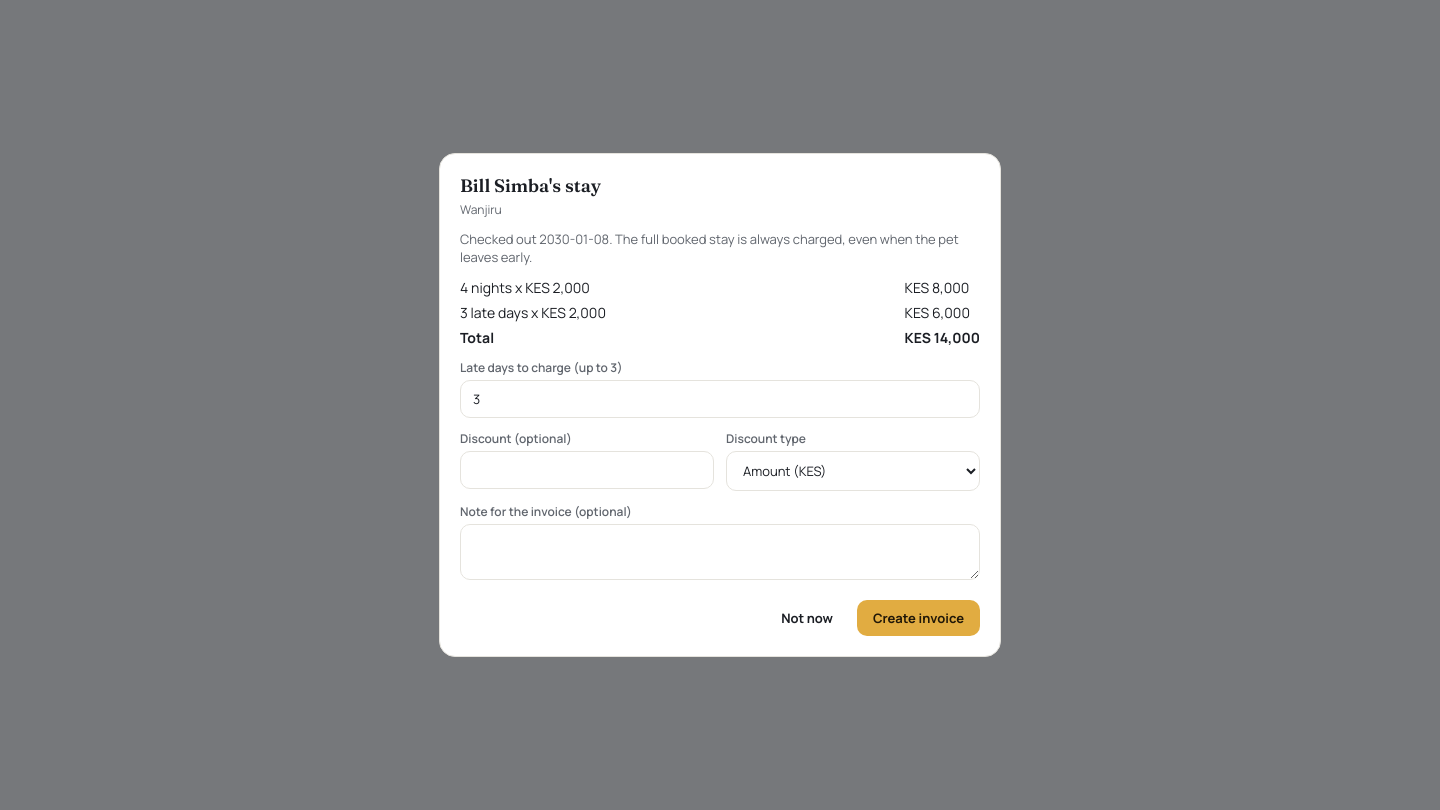
Test: StayInvoiceModal › creates the invoice once and reports success
Click the button "Create invoice".
click(918, 618)  # box [857, 600, 980, 636]
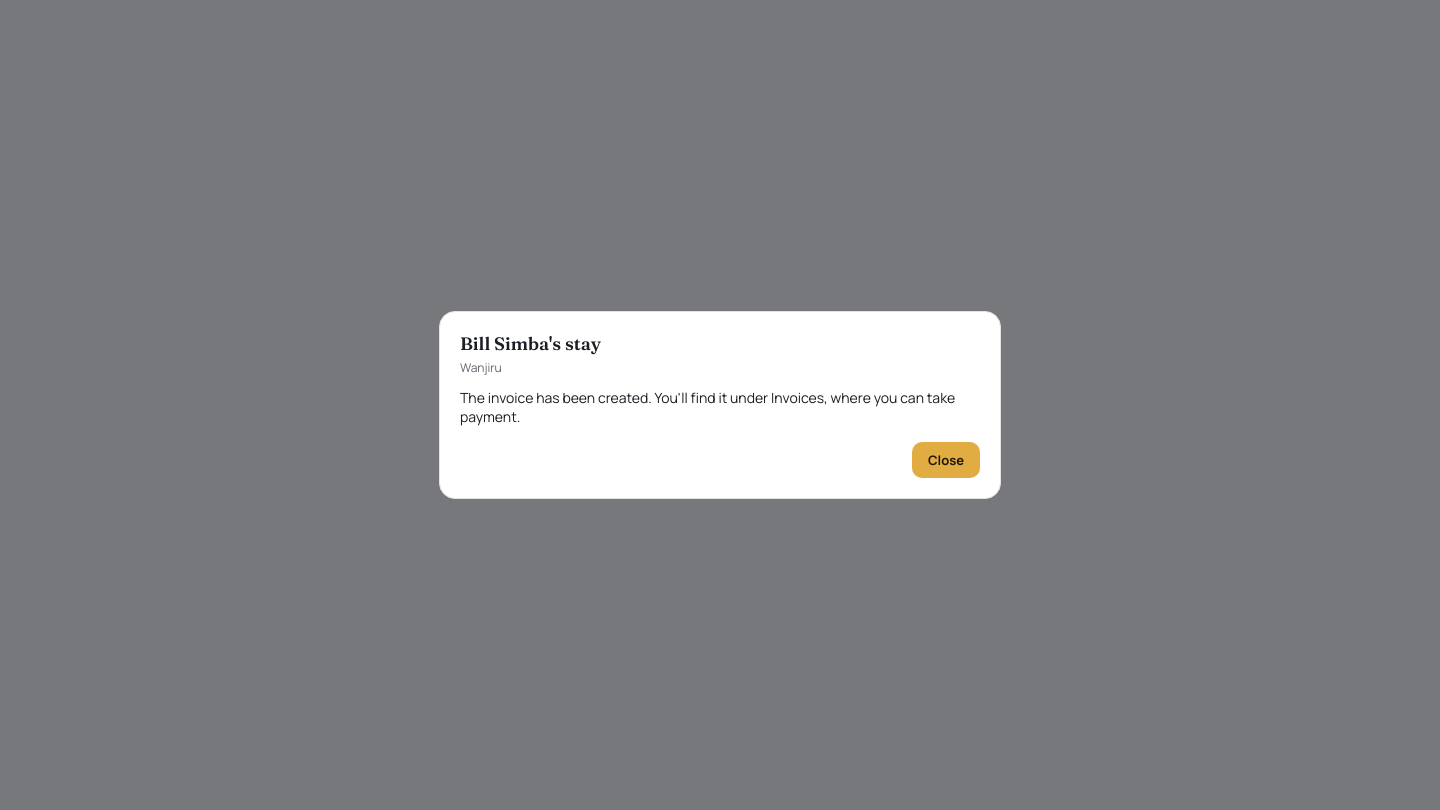
Result: the text "invoice has been created" is shown at [460, 388, 955, 426]
